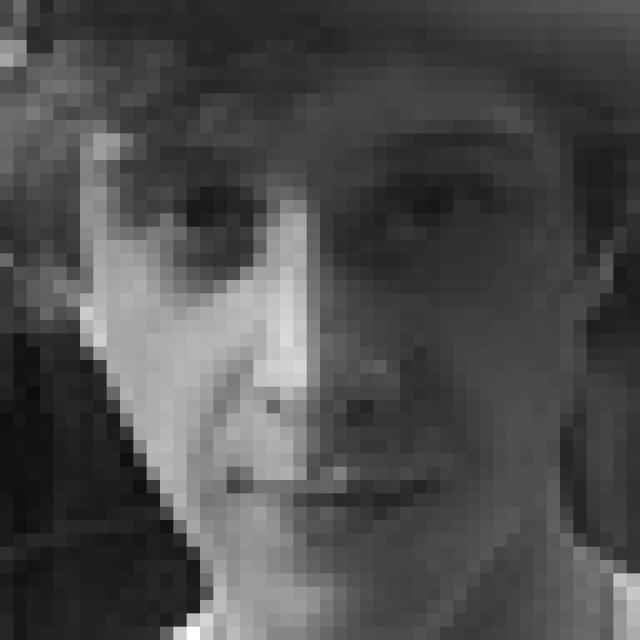neutral: (118, 122, 536, 559)
